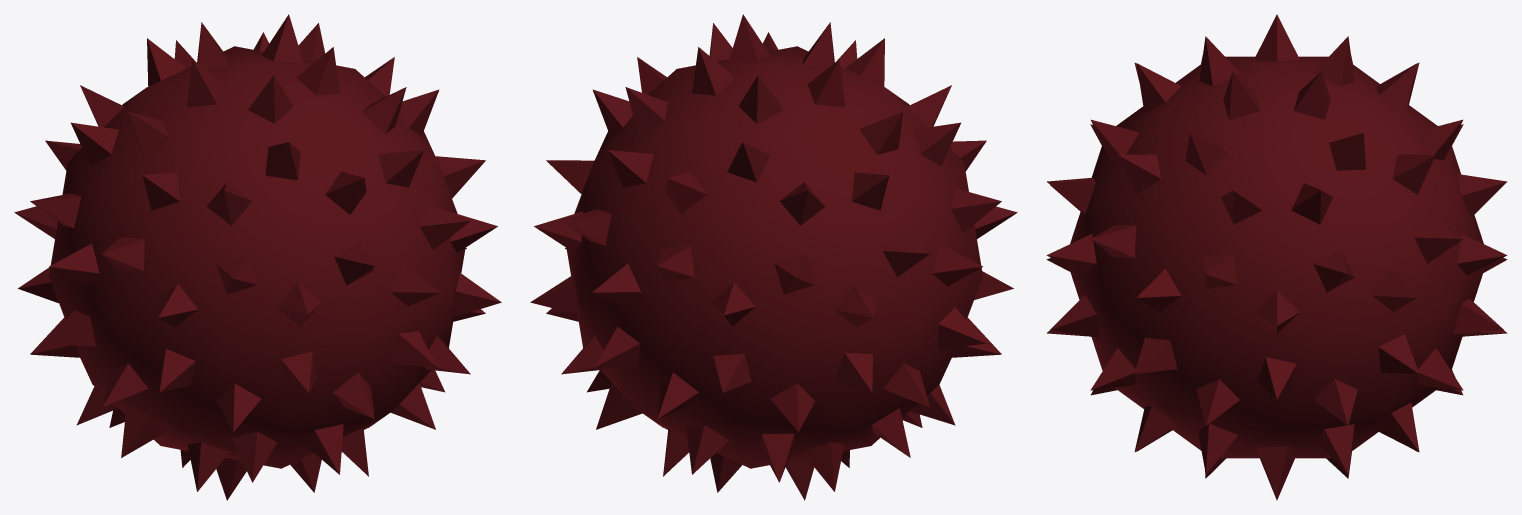
File: spikeball.fbx
3 views of the same model, side by side, from view 1: azimuth 30°, elevation 25°; view 2: azimuth 150°, elevation 25°; view 3: azimuth 270°, elevation 25° (orthographic).
Parts seen in each view (by area): view 1: Icosphere; view 2: Icosphere; view 3: Icosphere.
Boxes of the visible parts, left/top/right/bottom form: Icosphere: left=14, top=14, right=501, bottom=500; Icosphere: left=530, top=14, right=1017, bottom=500; Icosphere: left=1046, top=14, right=1507, bottom=500.
Size of the model in its own units: 230 by 221 by 218.
